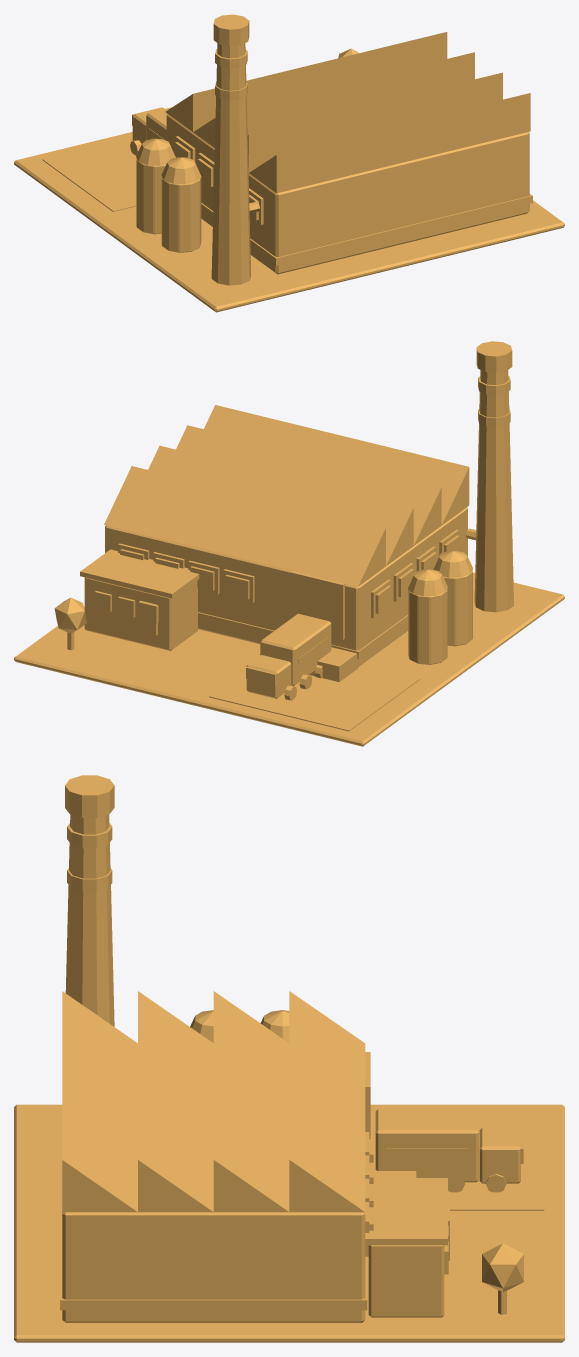
3 views of the same model, one above another, from view 1: azimuth 30°, elevation 25°; view 2: azimuth 150°, elevation 25°; view 3: azimuth 270°, elevation 25° (orthographic). The views are drawn at different scales.
Parts seen in each view (by area): view 1: corpo; view 2: corpo; view 3: corpo.
Boxes of the visible parts, box(x1,y1,x2,y2) form: corpo: box(14, 14, 564, 312); corpo: box(14, 341, 564, 746); corpo: box(14, 775, 564, 1342).
Bounding box in the file's own units: 4 × 2.84 × 4.
